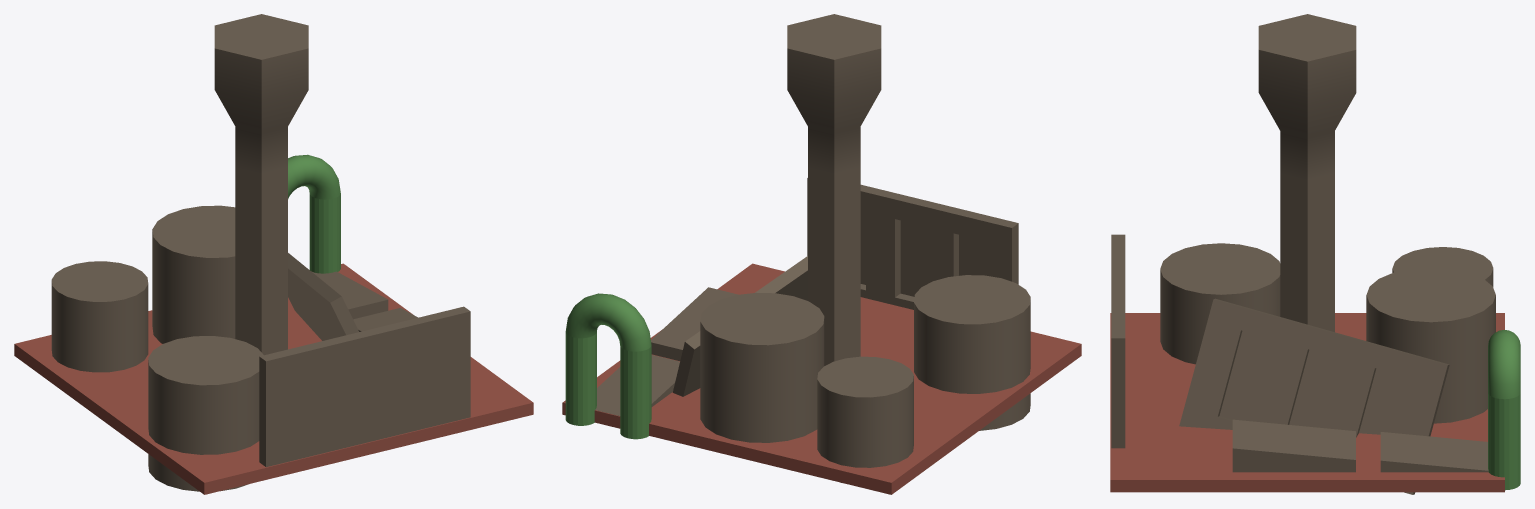
File: Ranger_TestLevel_Build001.fbx
3 renders of one model, left to right at view 1: azimuth 30°, elevation 25°; view 2: azimuth 150°, elevation 25°; view 3: azimuth 270°, elevation 25°, orthographic. The views are drawn at different scales.
Parts seen in each view (by area): view 1: pCube9; view 2: pCube9; view 3: pCube9.
Part boxes in pixels (x1,y1,x2,y2): pCube9: (14, 14, 533, 494); pCube9: (562, 14, 1081, 494); pCube9: (1110, 14, 1520, 494).
Size of the model in its own units: 28.49 by 31.98 by 29.63.
